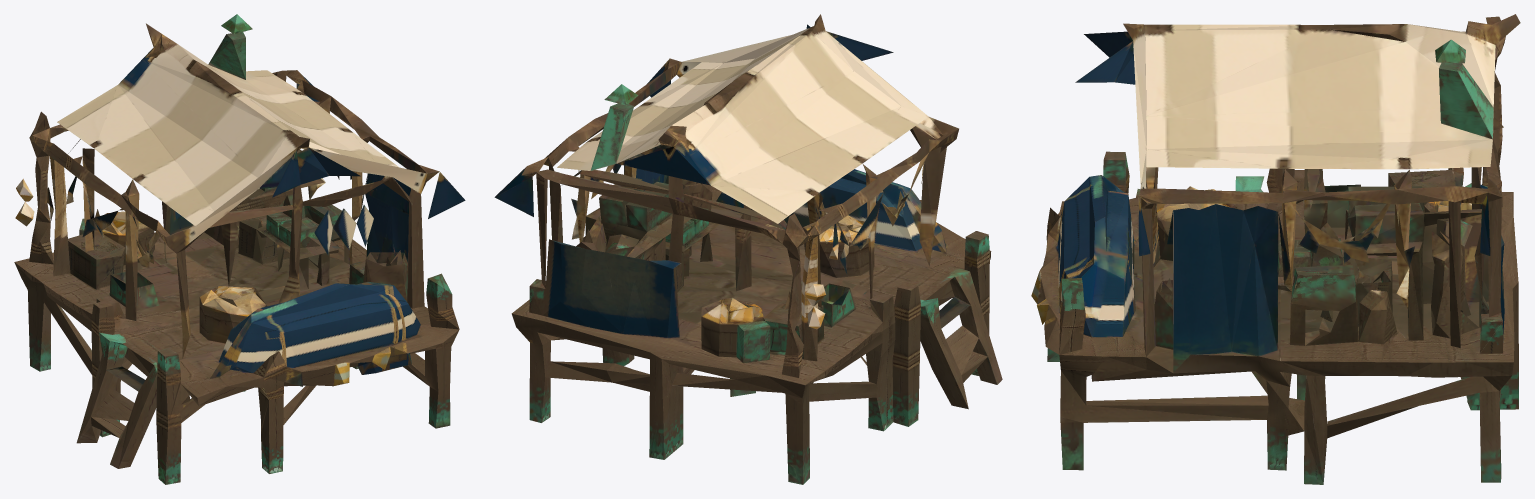
File: fishery.glb
The picture shows the model from 3 angles, left to right: view 1: azimuth 30°, elevation 25°; view 2: azimuth 150°, elevation 25°; view 3: azimuth 270°, elevation 25°; orthographic projection. The views are drawn at different scales.
Bounding box in the file's own units: 1.9 × 1.67 × 1.83.
1 material, 1 textured.
